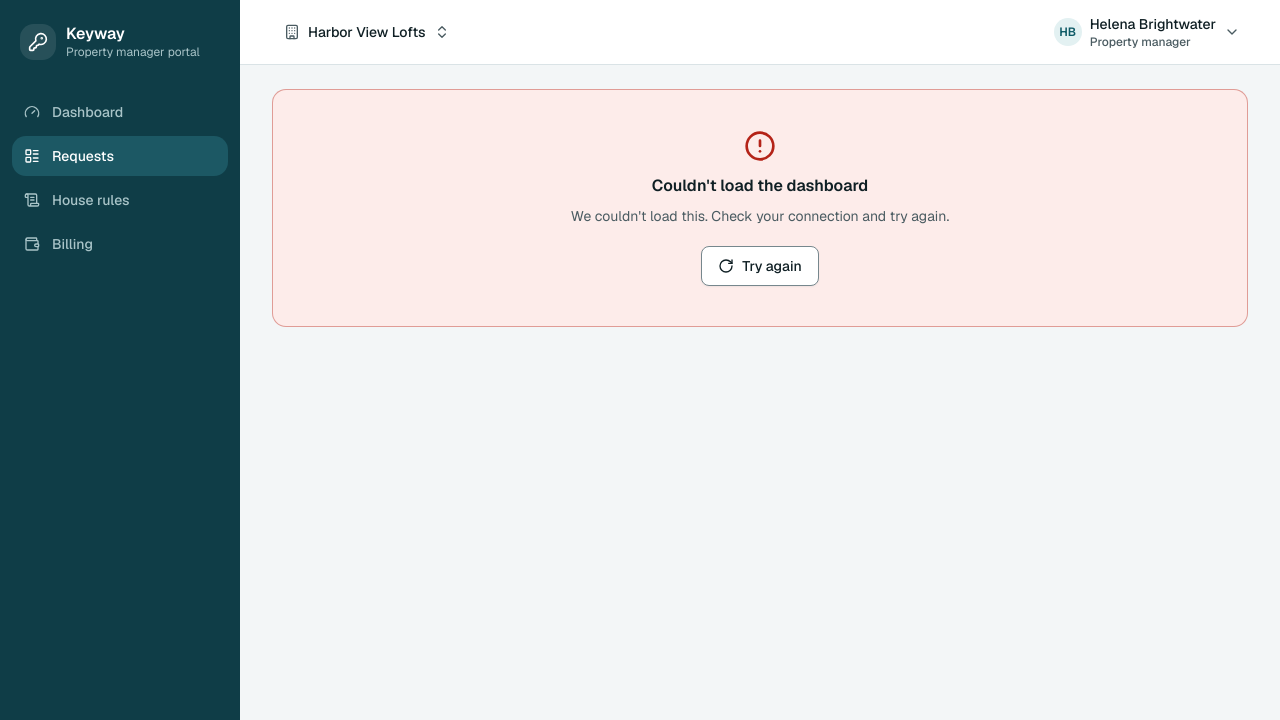
Dashboard › shows an error with a working retry
The image size is (1280, 720).
Expected: the message shows "Couldn't load the dashboard", x1=652 y1=175 x2=868 y2=196
Click the button "Try again". click: point(760, 266)
box: x1=701 y1=246 x2=819 y2=286
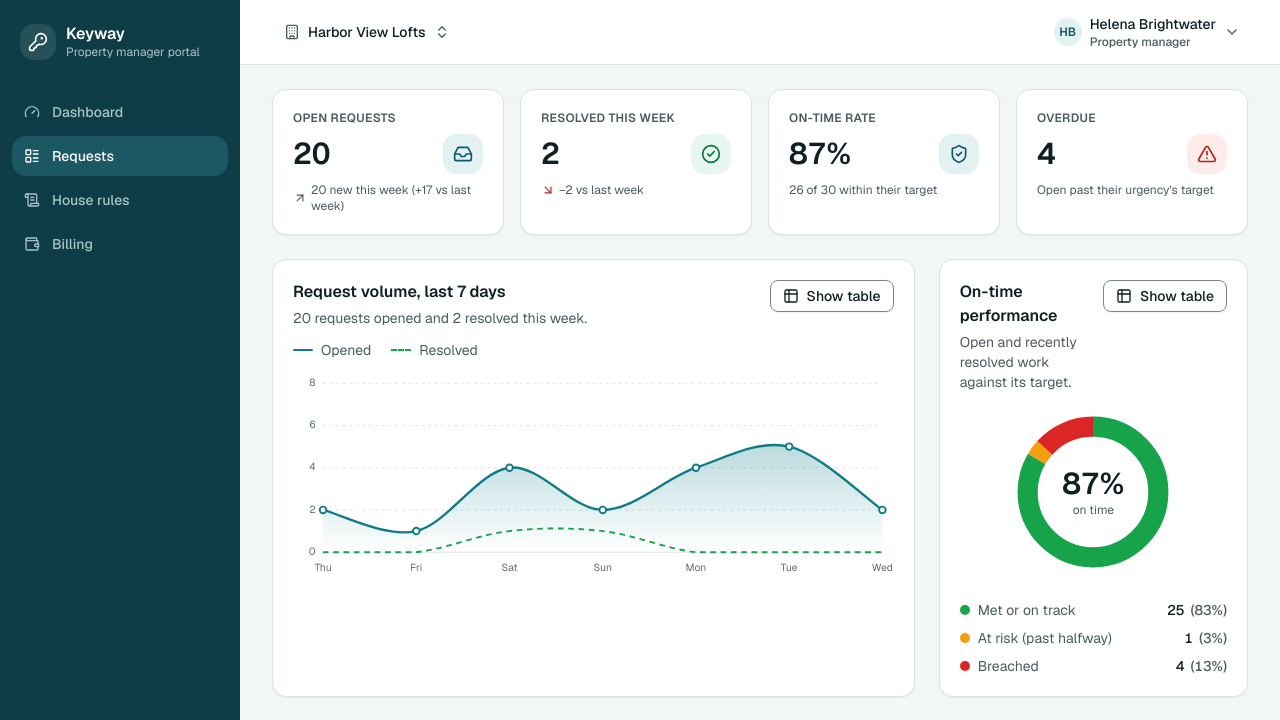
Result: the text "Open requests" is shown at x1=293 y1=110 x2=396 y2=126
